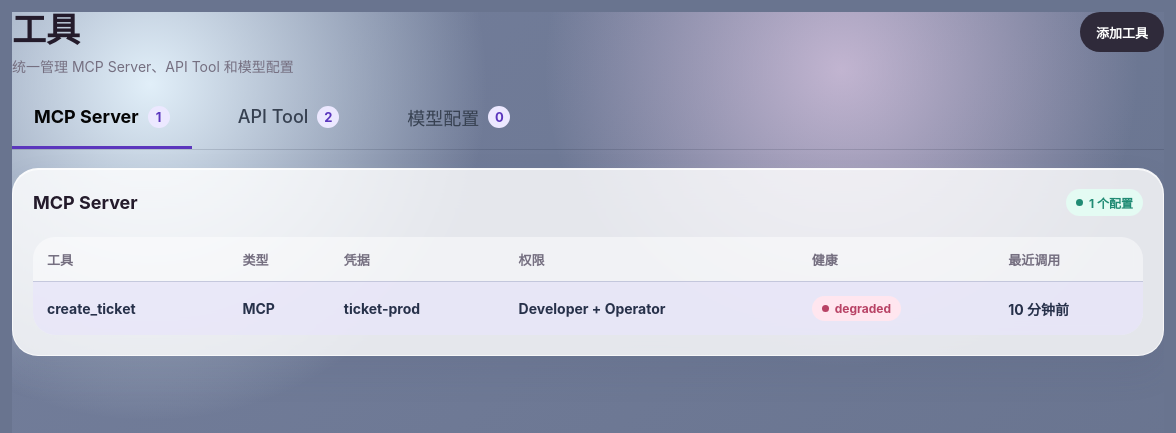
Test case: ToolsPage model providers › automatically tests every model provider when entering the model configuration page
Click the tab "模型配置 0" at (459, 125), box [385,101,532,149]
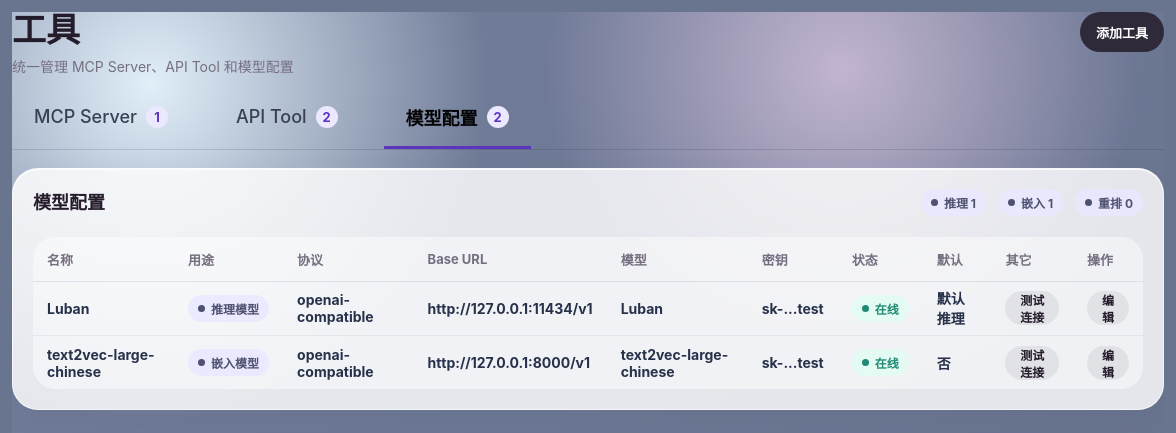
Result: the text "在线" is shown 2 times at [852,295,909,322]; [852,349,909,376]
